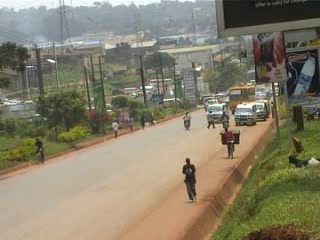Car: (202, 98, 219, 111), (217, 96, 231, 105)
Motorcycle: (218, 110, 231, 131), (180, 109, 192, 129)
